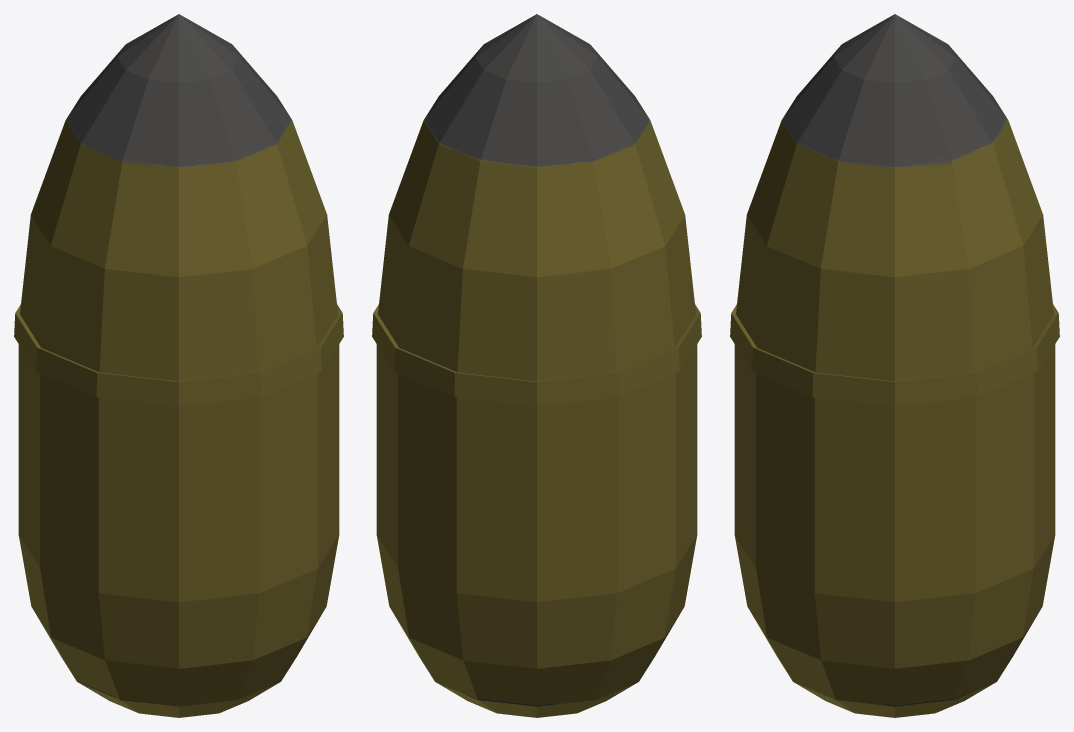
File: Base_Projectile.fbx
The picture shows the model from 3 angles, left to right: view 1: azimuth 30°, elevation 25°; view 2: azimuth 150°, elevation 25°; view 3: azimuth 270°, elevation 25°; orthographic projection.
Visible parts, largest first — view 1: Cylinder; view 2: Cylinder; view 3: Cylinder.
Part boxes in pixels (x1=…): Cylinder: x1=14, y1=14, x2=343, y2=717; Cylinder: x1=372, y1=14, x2=701, y2=717; Cylinder: x1=730, y1=14, x2=1059, y2=717.
Bounding box in the file's own units: 12.97 × 29.07 × 12.97.
